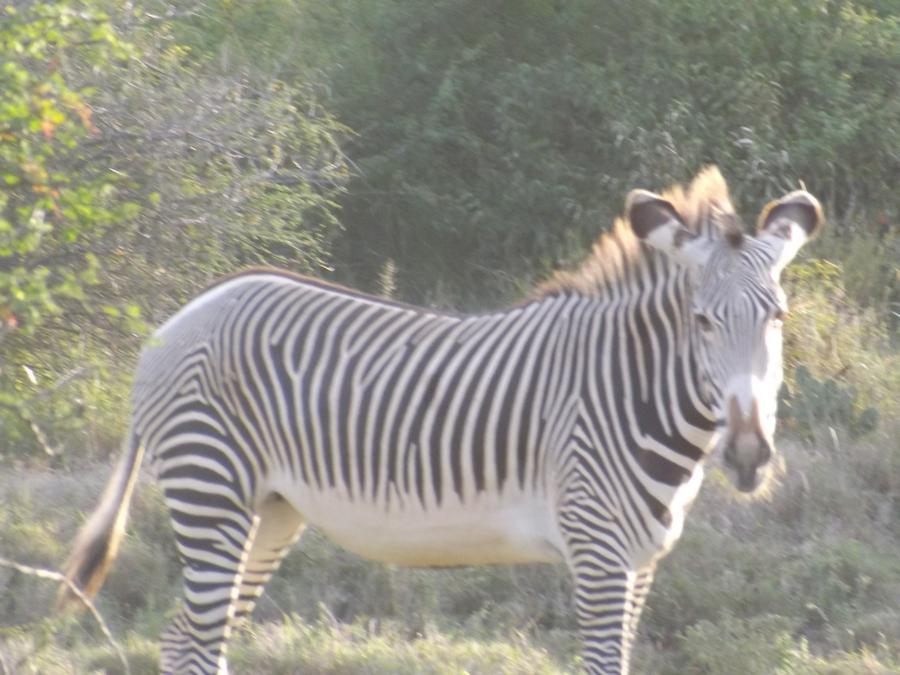zebra_grevys: (135, 242, 661, 564)
